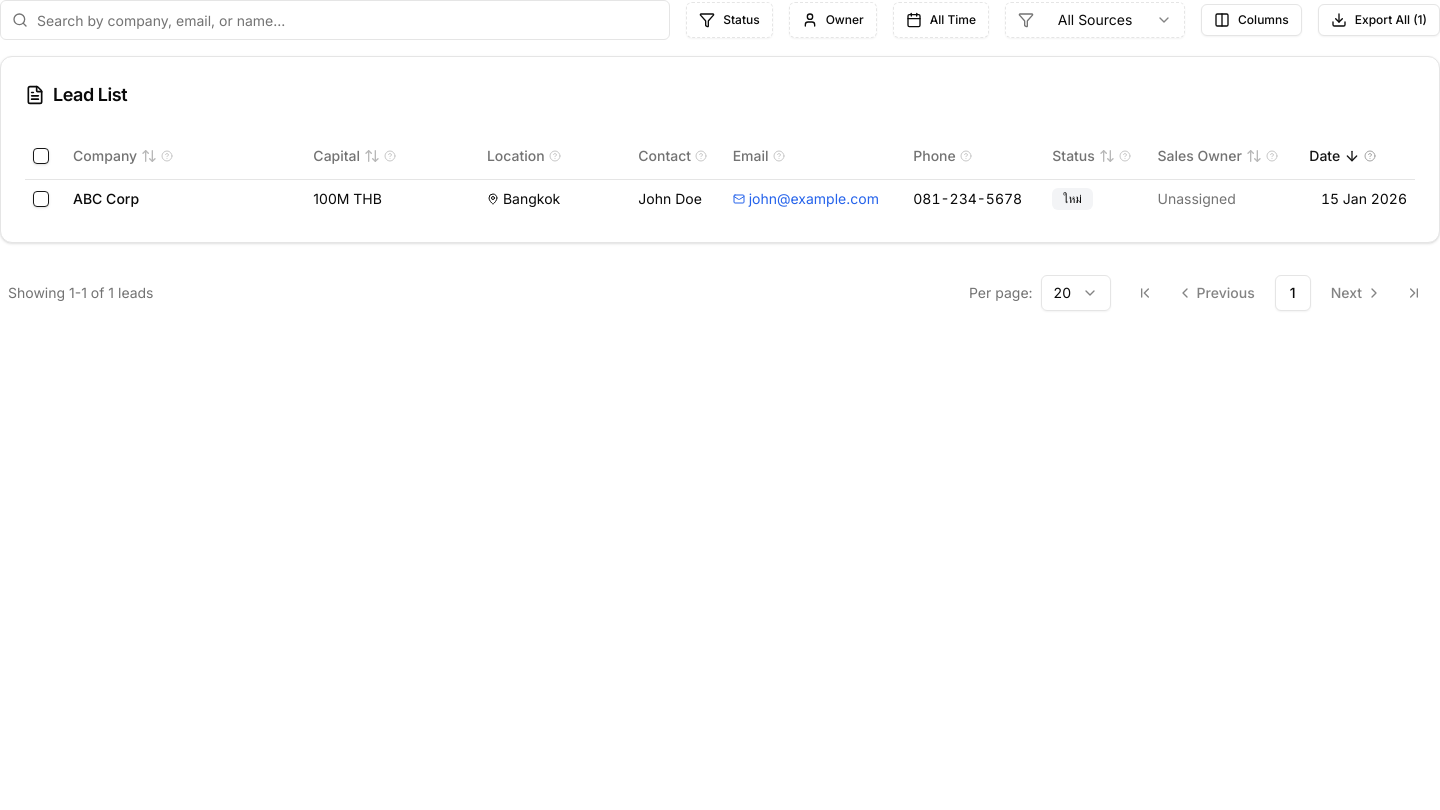
Scenario: LeadTableContainer › Data loaded state › opens detail sheet when row is clicked
Step 1. Click the button with test id "lead-row-lead_uuid_1" → {"x": 106, "y": 198}, box [25,180,1415,218]
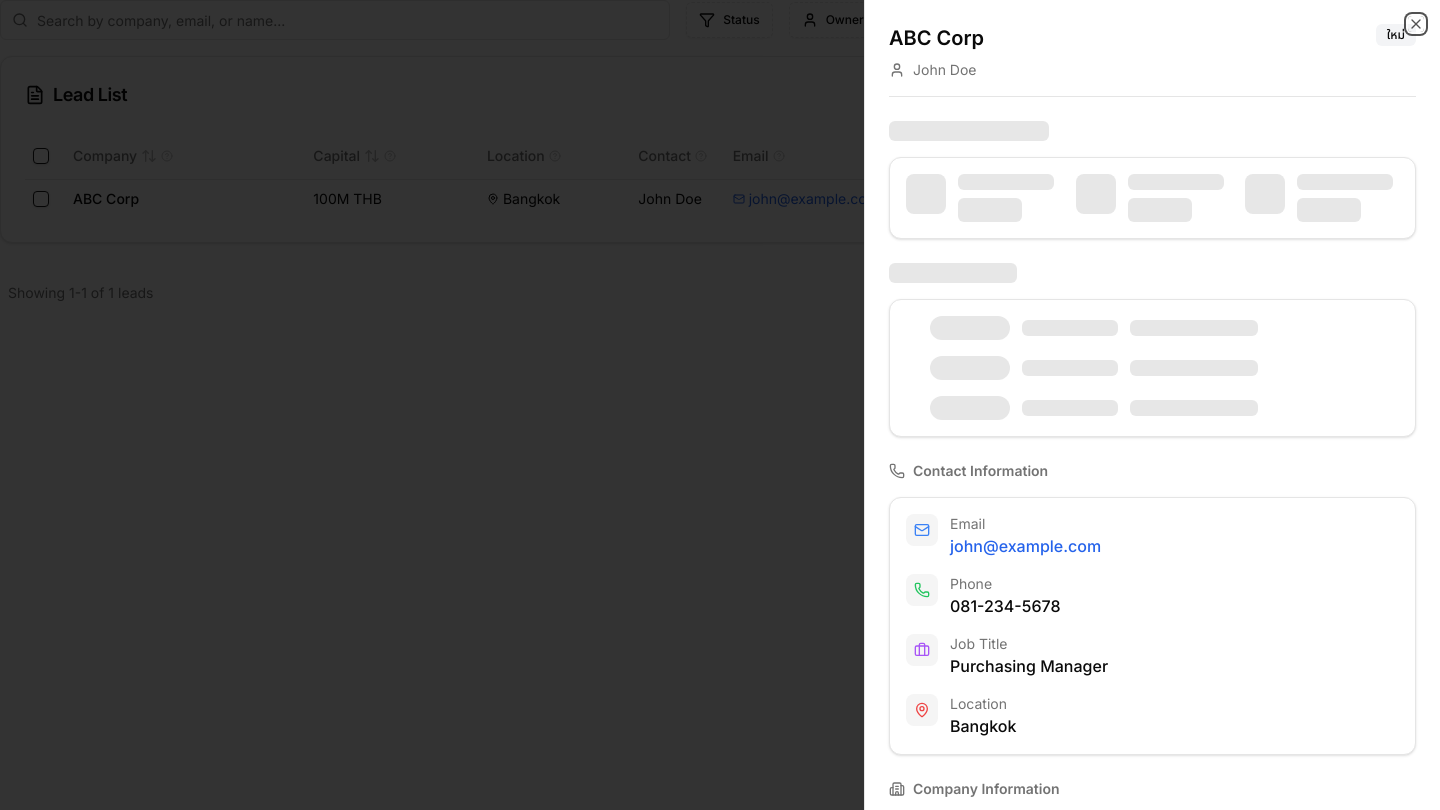
Expected: the dialog with test id "lead-detail-sheet" is shown, [864,0,1439,809]
